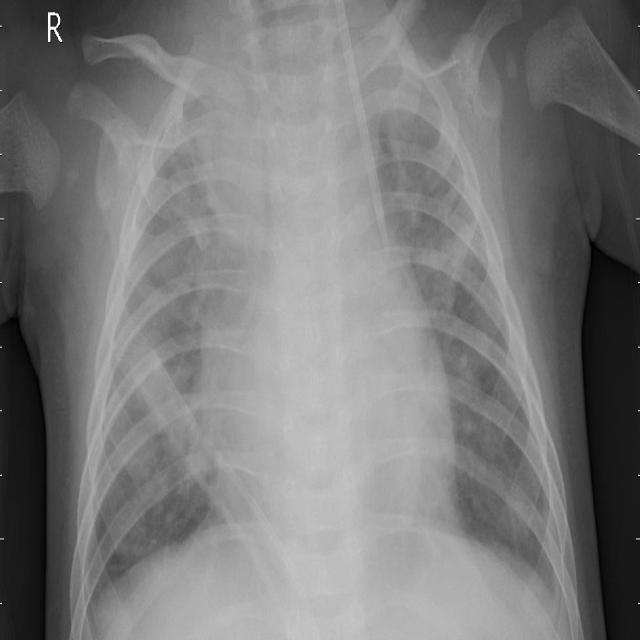high-pneumonia: (179, 78, 252, 312)
low-pneumonia: (410, 243, 490, 442), (364, 48, 432, 231), (148, 371, 225, 503)
